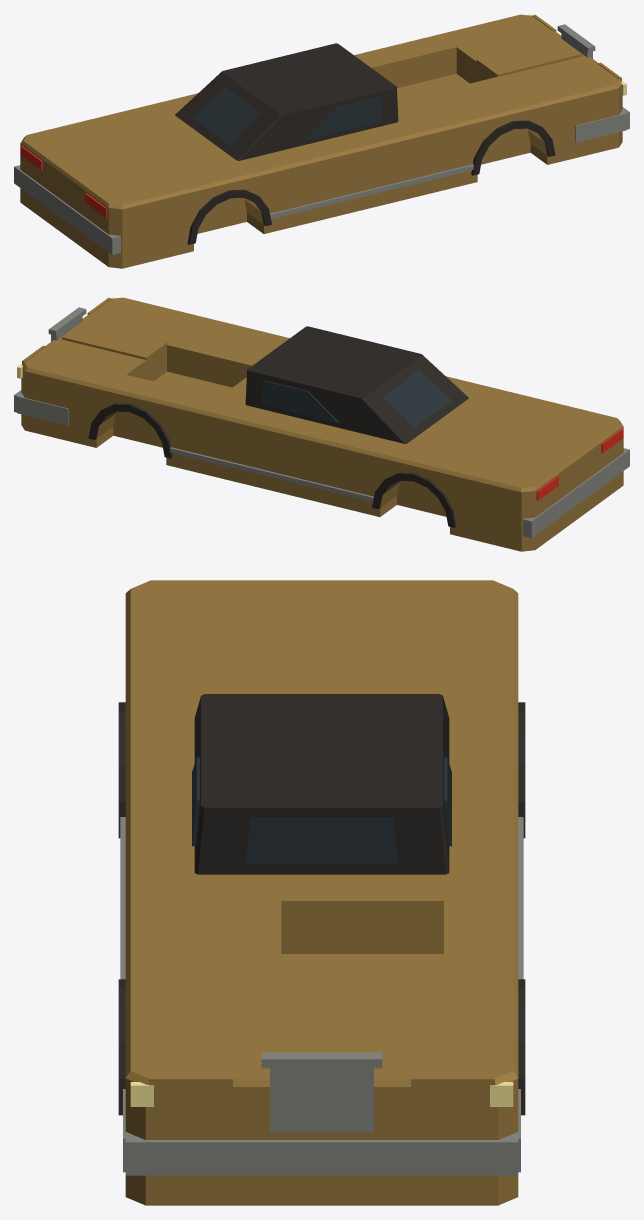
Rendered from base_lincoln.glb.
The picture shows the model from 3 angles, top to bottom: view 1: azimuth 30°, elevation 25°; view 2: azimuth 150°, elevation 25°; view 3: azimuth 270°, elevation 25°; orthographic projection. The views are drawn at different scales.
Visible parts, largest first — view 1: base_lincoln; view 2: base_lincoln; view 3: base_lincoln.
Part boxes in pixels (left/top/right/bottom): base_lincoln: left=14, top=14, right=629, bottom=268; base_lincoln: left=14, top=297, right=629, bottom=551; base_lincoln: left=118, top=580, right=525, bottom=1205.
Size of the model in its own units: 7.12 by 1.26 by 2.42.
